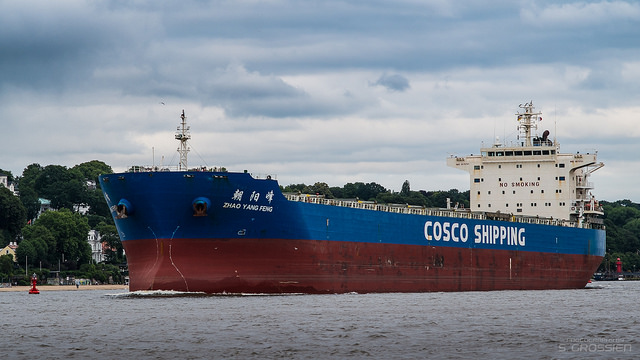bulk carrier: (98, 113, 608, 287)
